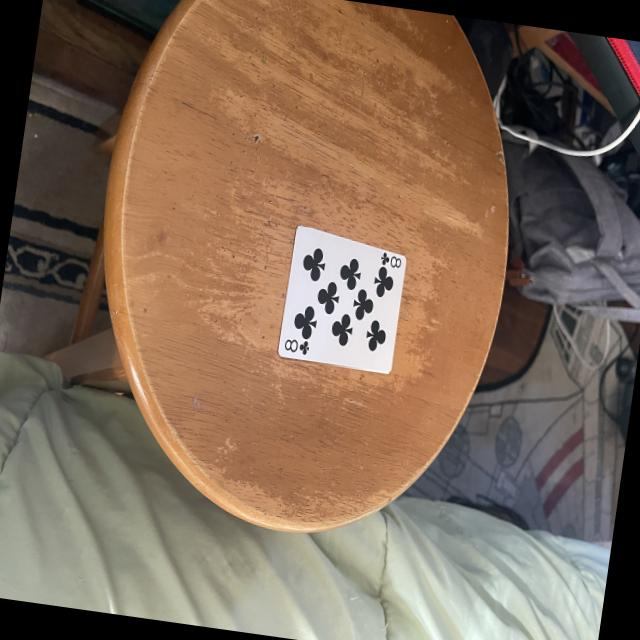8 of clubs: (278, 227, 405, 373)
